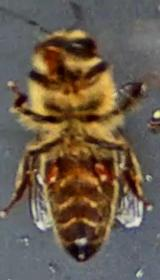varroa_mite: (90, 158, 122, 186), (36, 159, 64, 187)
